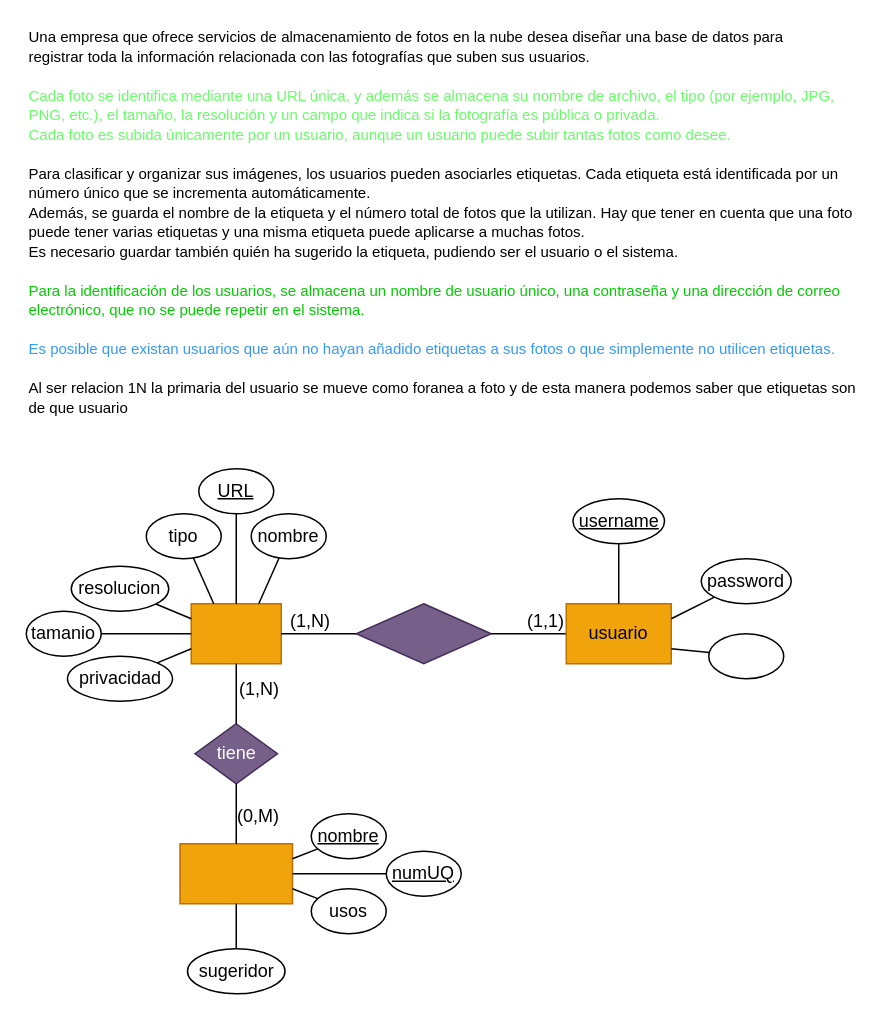
Image size: 893x1020. Some labels were removed from this diagram. The shapes that lost their labels are listed below. From the top down, each one's centre as x and y in pixels, then its label:
At (235,633): "foto".
At (423,633): "sube".
At (745,655): "email".
At (235,873): "etiqueta".
